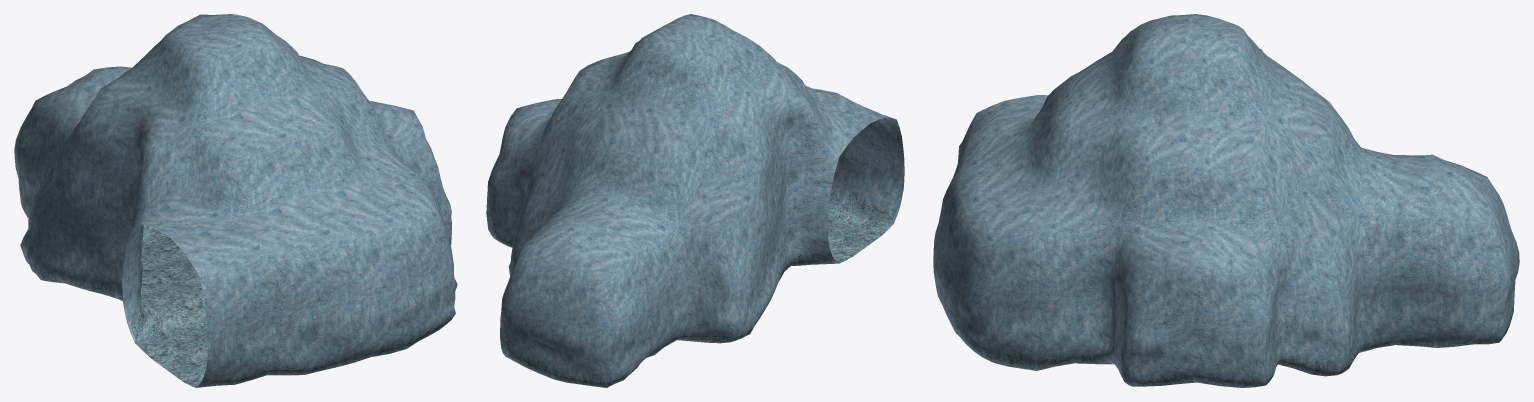
The model's file is thm_all_cave_s03_ice_r27_r27.fbx.
The picture shows the model from 3 angles, left to right: view 1: azimuth 30°, elevation 25°; view 2: azimuth 150°, elevation 25°; view 3: azimuth 270°, elevation 25°; orthographic projection. The views are drawn at different scales.
Parts seen in each view (by area): view 1: mesh_node; view 2: mesh_node; view 3: mesh_node.
Boxes of the visible parts, x1,y1,x2,y2 form: mesh_node: (14,14,457,387); mesh_node: (486,14,904,387); mesh_node: (933,14,1519,387).
Bounding box in the file's own units: 40.47 × 33.41 × 59.
